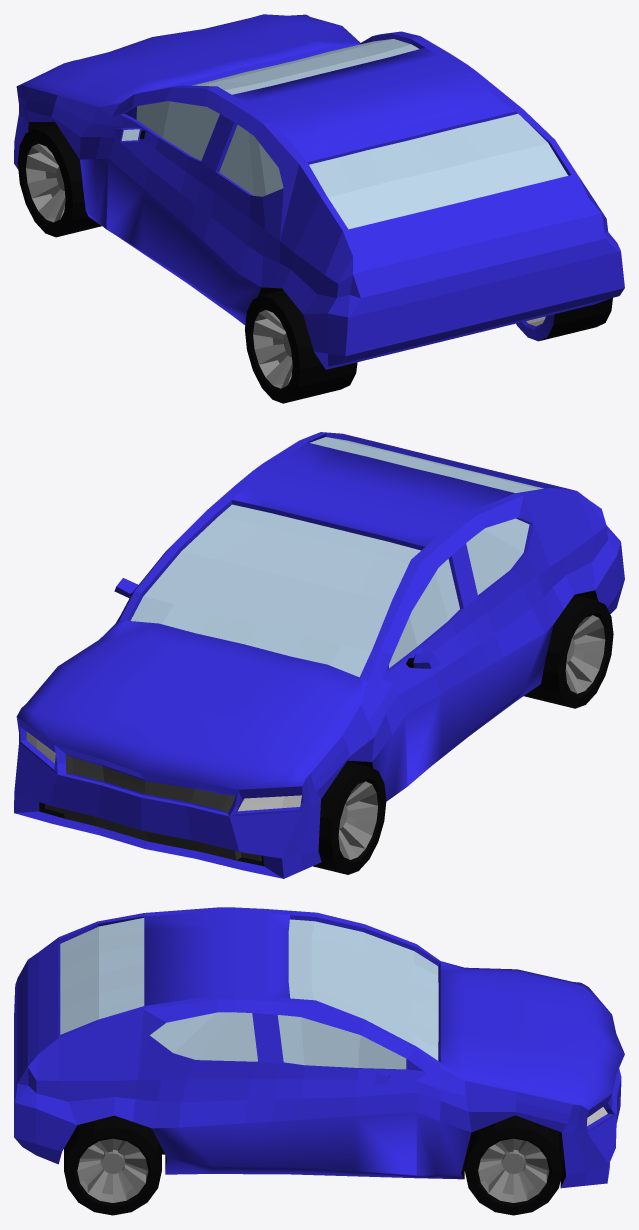
File: Car2.fbx
3 views of the same model, one above another, from view 1: azimuth 30°, elevation 25°; view 2: azimuth 150°, elevation 25°; view 3: azimuth 270°, elevation 25° (orthographic). The views are drawn at different scales.
Parts seen in each view (by area): view 1: Car; view 2: Car; view 3: Car.
Boxes of the visible parts, x1,y1,x2,y2 form: Car: (14, 14, 624, 403); Car: (14, 432, 624, 878); Car: (14, 907, 624, 1215).
Size of the model in its own units: 213 by 140 by 400.
